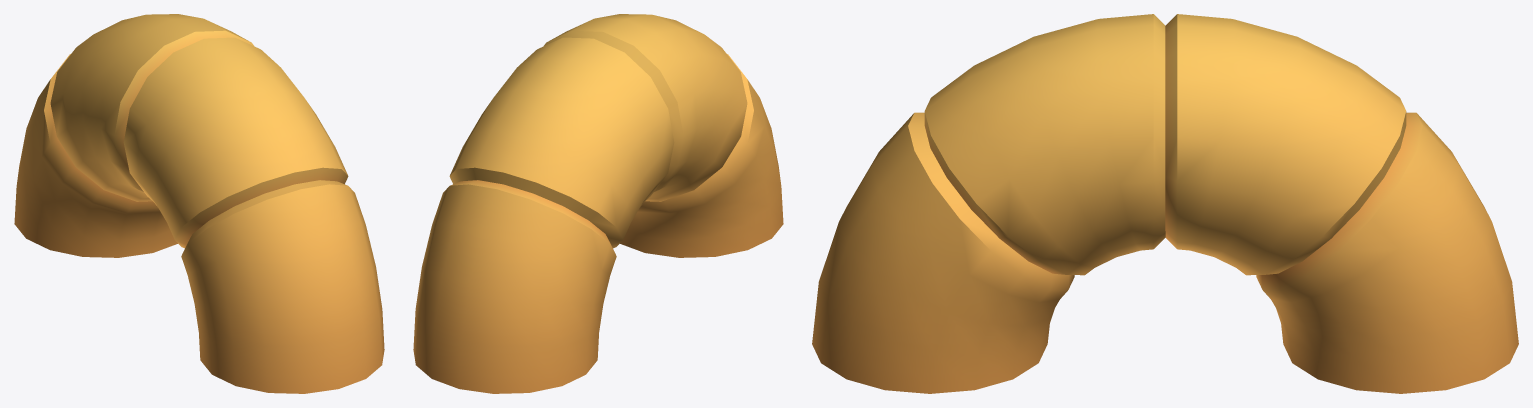
The model's file is pipe_180_B_yellow.glb.
The picture shows the model from 3 angles, left to right: view 1: azimuth 30°, elevation 25°; view 2: azimuth 150°, elevation 25°; view 3: azimuth 270°, elevation 25°; orthographic projection. The views are drawn at different scales.
Visible parts, largest first — view 1: pipe_180_B_yellow; view 2: pipe_180_B_yellow; view 3: pipe_180_B_yellow.
Boxes of the visible parts, x1,y1,x2,y2 form: pipe_180_B_yellow: (14,14,384,393); pipe_180_B_yellow: (413,14,783,393); pipe_180_B_yellow: (812,14,1518,393).
Bounding box in the file's own units: 2 × 2.99 × 6.
1 material, 1 textured.
